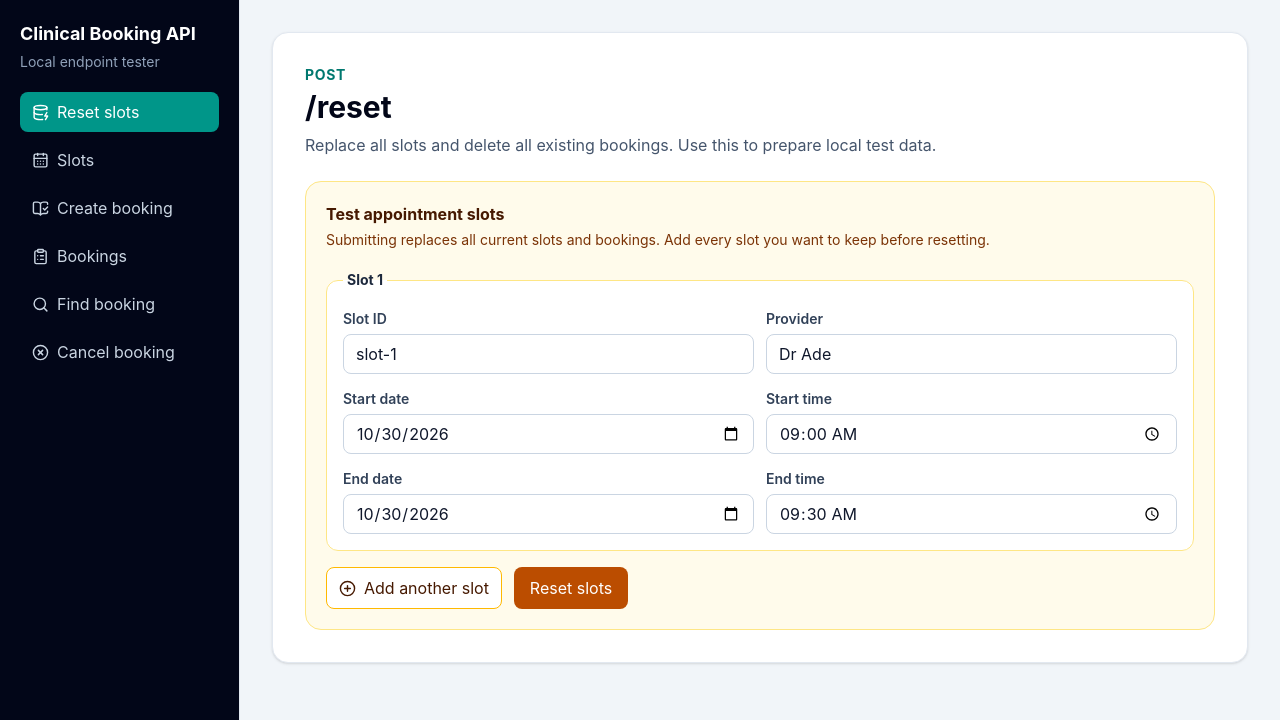
Test: Clinical Booking API tester › shows the Reset confirmation without a raw API response panel
The width and height of the screenshot is (1280, 720).
Step 1. Click the button "Reset slots" below "End date" → (571, 588), box [514,567,628,609]
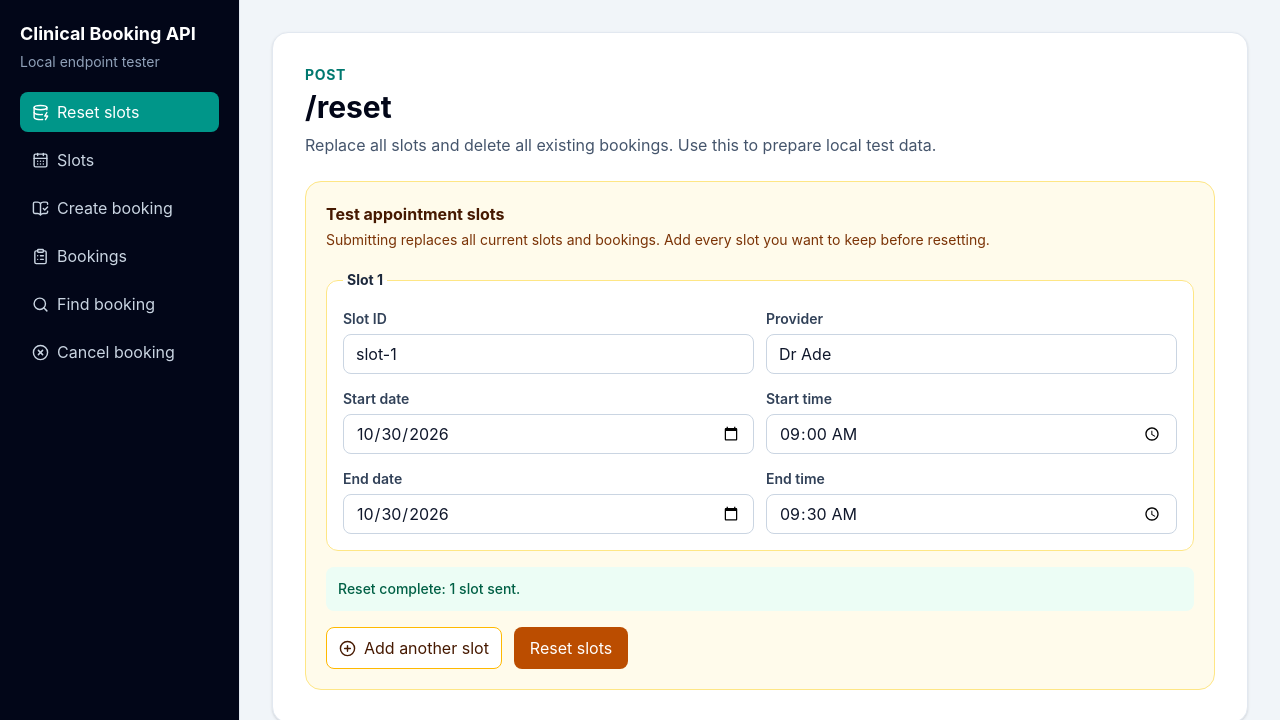
Expected: the message reads "Reset complete: 1 slot sent.", [338,580,520,597]
